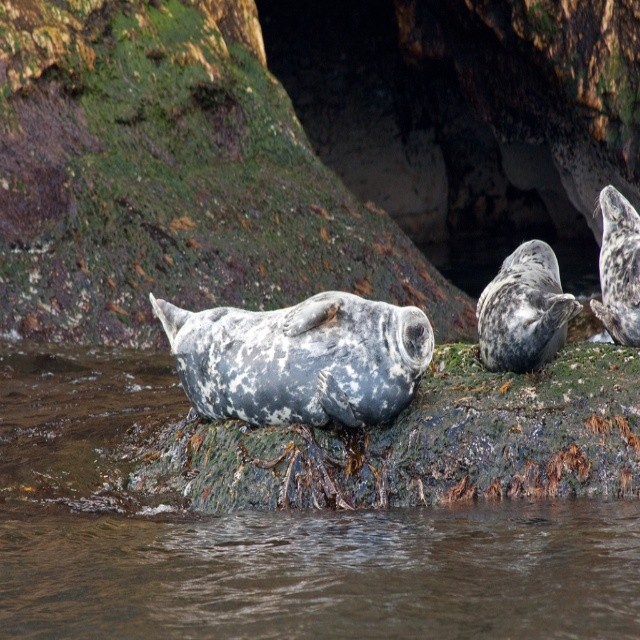Harbor seal: (148, 277, 444, 438), (478, 238, 582, 374), (587, 185, 640, 354)
